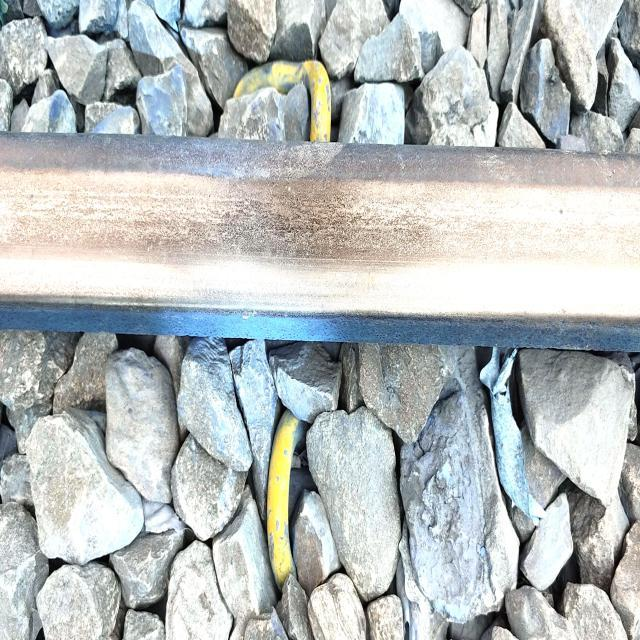Good Fasteners: (234, 60, 331, 142), (267, 410, 300, 590)
